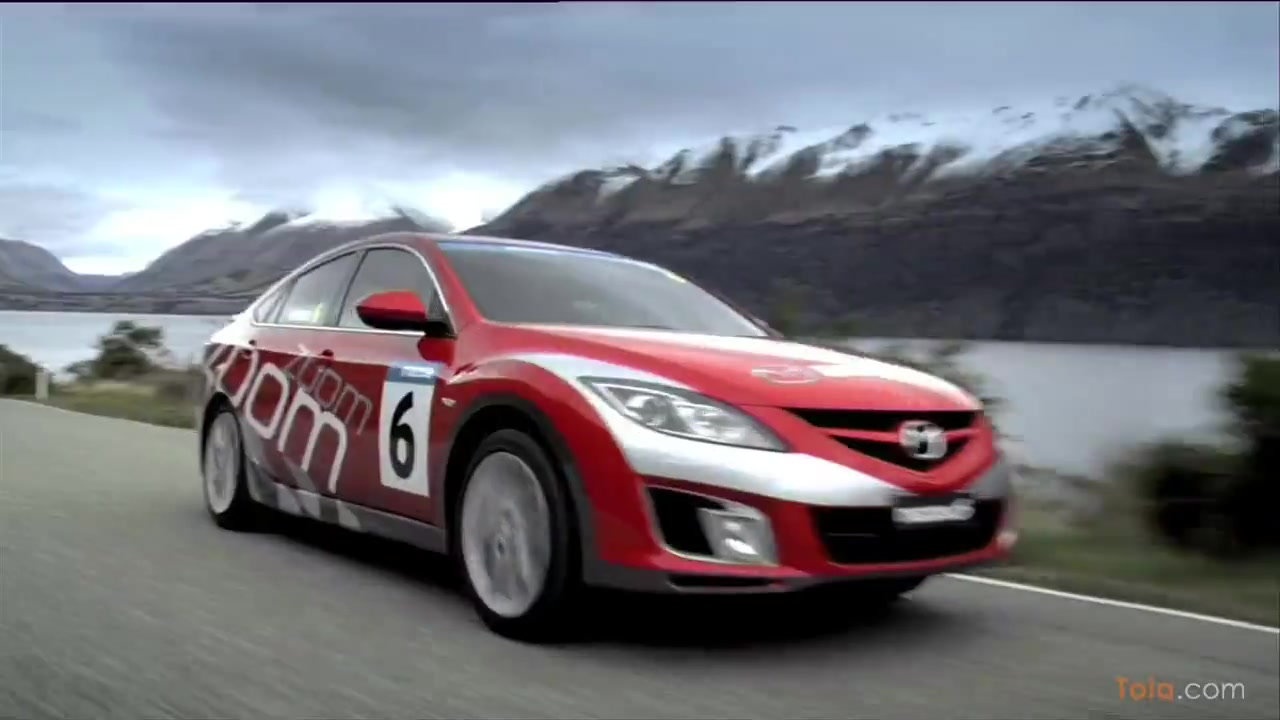car: (193, 229, 1024, 647)
